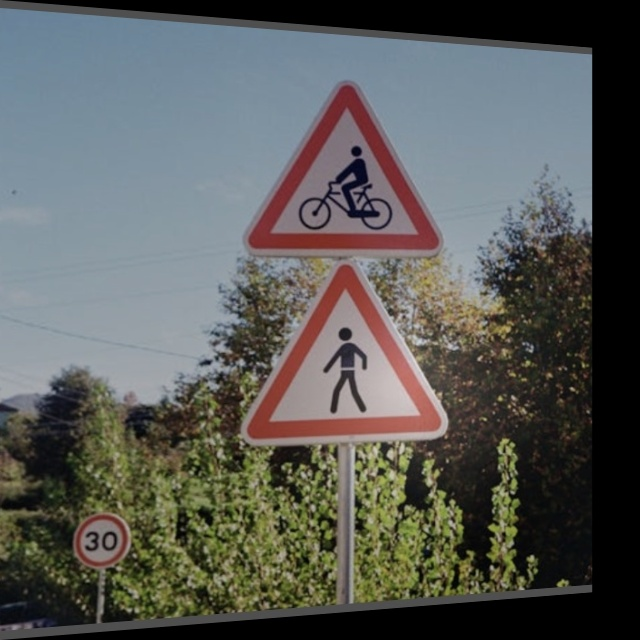Cycle_Crossing: (249, 70, 446, 257)
